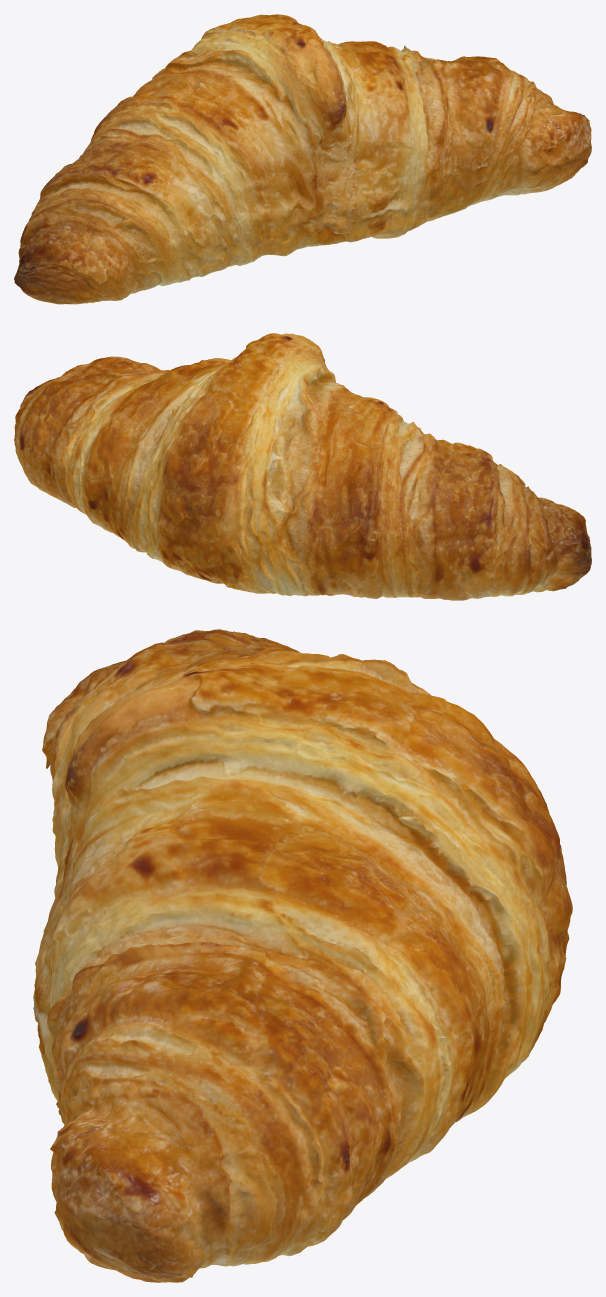
File: croissant.glb
The picture shows the model from 3 angles, top to bottom: view 1: azimuth 30°, elevation 25°; view 2: azimuth 150°, elevation 25°; view 3: azimuth 270°, elevation 25°; orthographic projection. The views are drawn at different scales.
Visible parts, largest first — view 1: Object_2, Object_3, Object_4; view 2: Object_3, Object_2, Object_4; view 3: Object_3, Object_2, Object_4.
Boxes of the visible parts, box(x1,y1,x2,y2) form: Object_2: box(40, 23, 591, 298); Object_3: box(14, 14, 591, 294); Object_4: box(20, 161, 587, 304); Object_3: box(14, 351, 591, 600); Object_2: box(53, 333, 586, 528); Object_4: box(27, 477, 586, 600); Object_3: box(98, 629, 572, 1264); Object_2: box(33, 632, 294, 1251); Object_4: box(53, 1093, 374, 1282).
Size of the model in its own units: 0.1244 by 0.0408 by 0.0511.
1 material, 1 textured.
